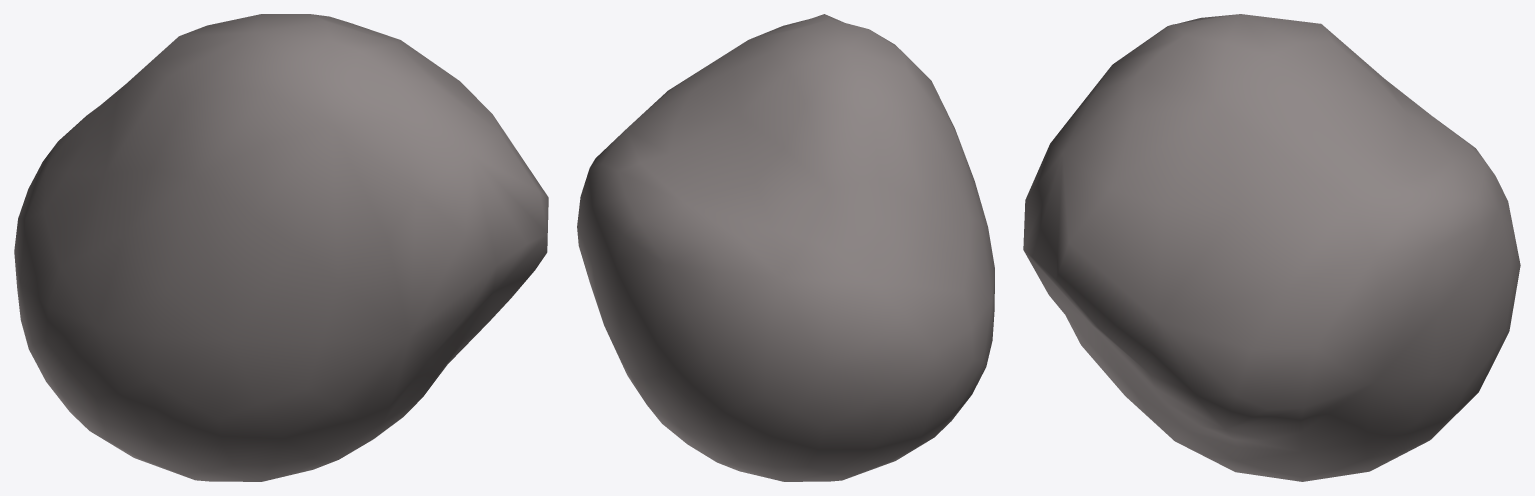
File: Stone_01.fbx
3 renders of one model, left to right at view 1: azimuth 30°, elevation 25°; view 2: azimuth 150°, elevation 25°; view 3: azimuth 270°, elevation 25°, orthographic. The views are drawn at different scales.
Parts seen in each view (by area): view 1: Stone_01; view 2: Stone_01; view 3: Stone_01.
Part boxes in pixels (x1,y1,x2,y2): Stone_01: [14, 14, 548, 481]; Stone_01: [577, 14, 994, 481]; Stone_01: [1023, 14, 1520, 481].
Bounding box in the file's own units: 1.75 × 1.71 × 1.74.
